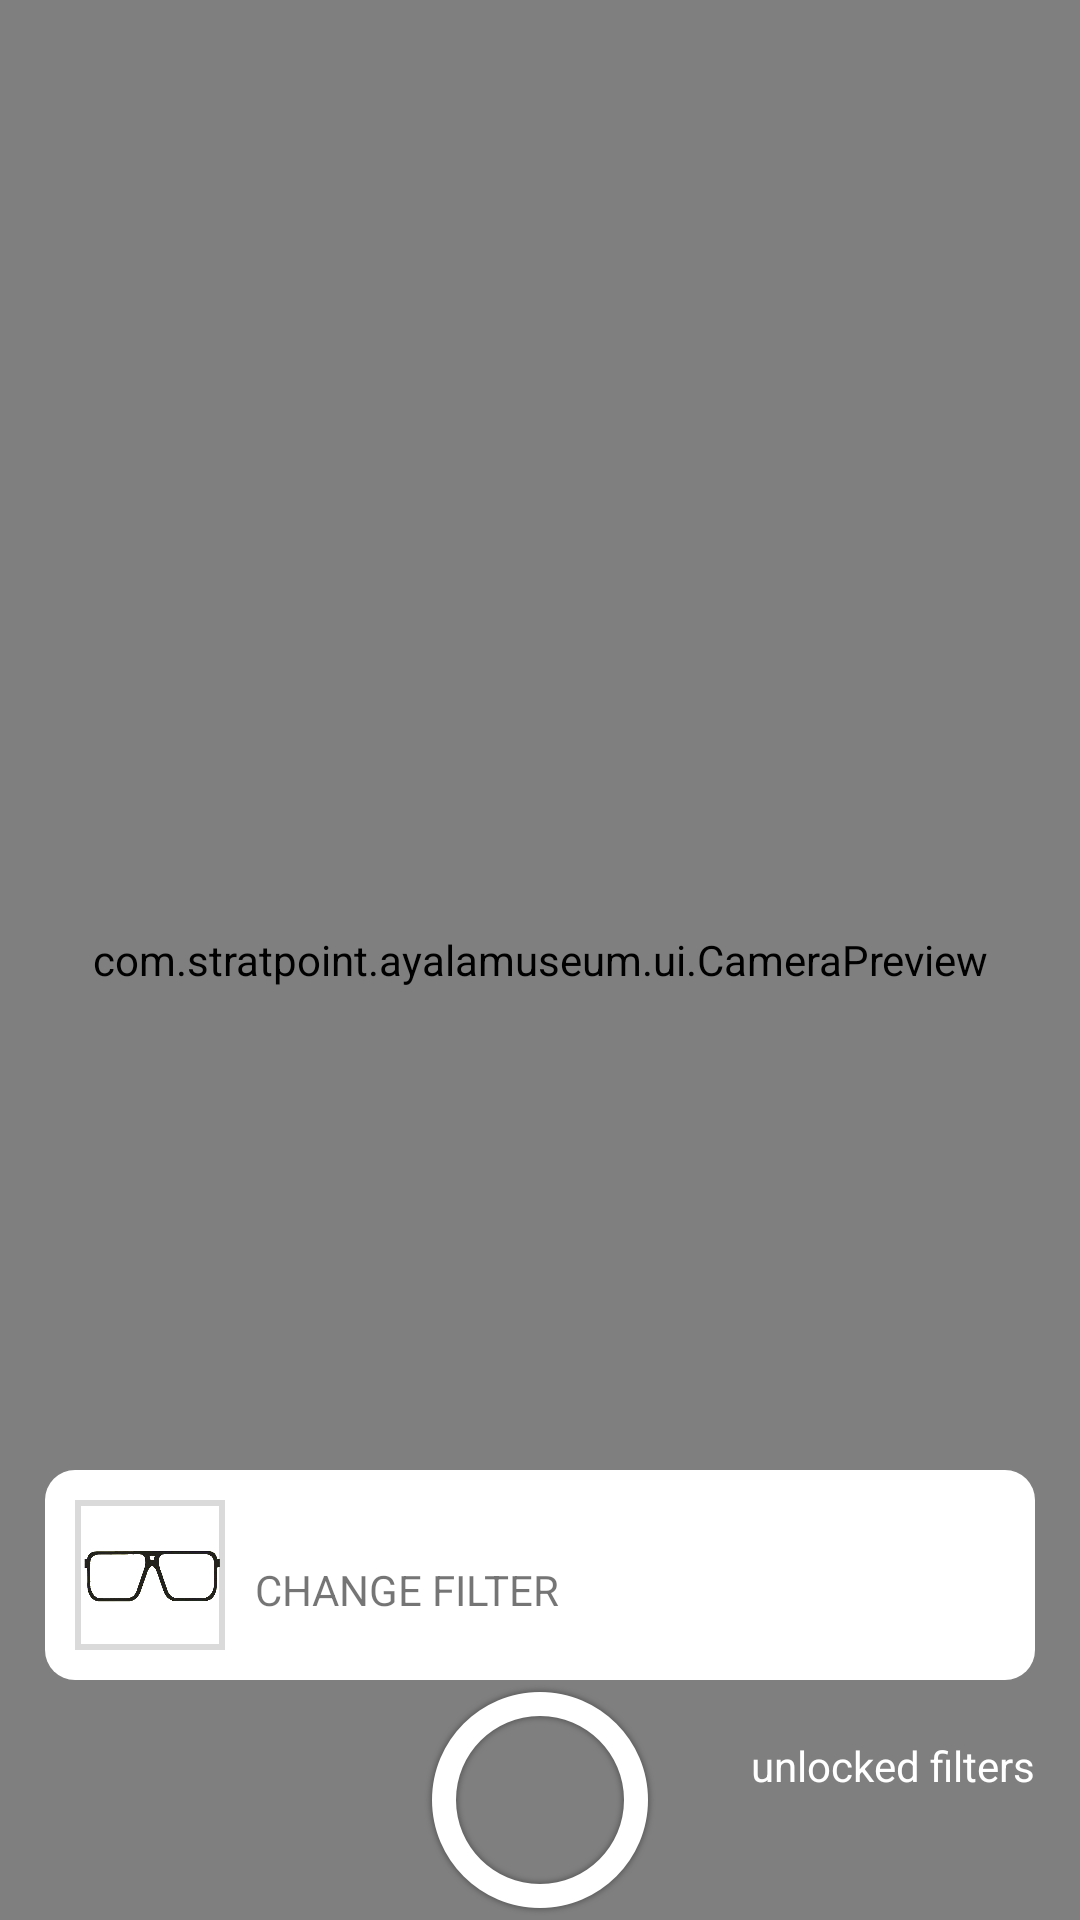

Named icons in this screenshot (1080 x 1920) and their centers, (x,y):
camera capture: (540,1800)
eyes glasses: (150,1575)
